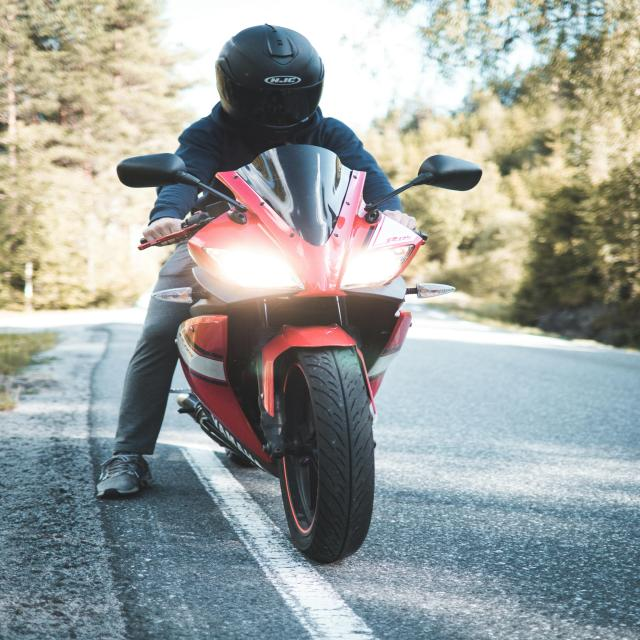Bike: (150, 153, 474, 561)
